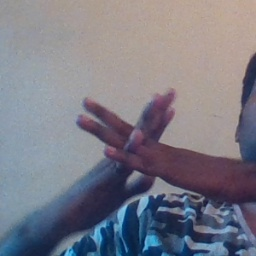W: (71, 79, 193, 214)
